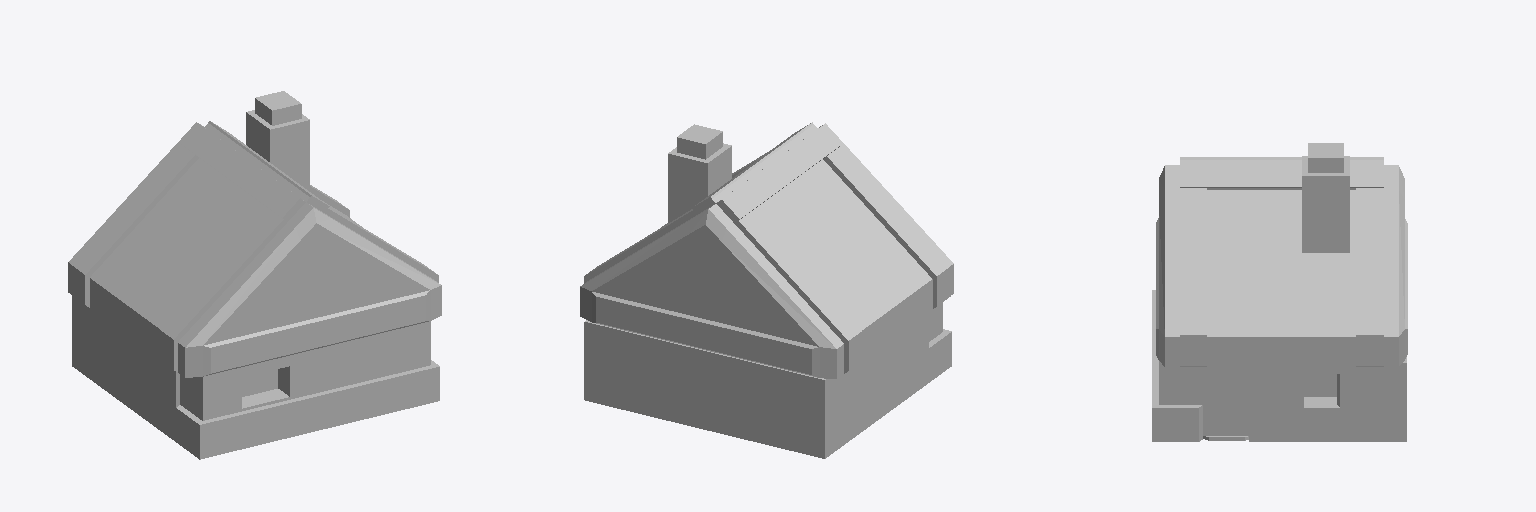
File: feudalhouse.obj
3 renders of one model, left to right at view 1: azimuth 30°, elevation 25°; view 2: azimuth 150°, elevation 25°; view 3: azimuth 270°, elevation 25°, orthographic.
Parts seen in each view (by area): view 1: housebase:Mesh; view 2: housebase:Mesh; view 3: housebase:Mesh.
Boxes of the visible parts, x1,y1,x2,y2 form: housebase:Mesh: [68, 91, 441, 459]; housebase:Mesh: [580, 122, 953, 458]; housebase:Mesh: [1152, 143, 1407, 441].
Bounding box in the file's own units: 5.29 × 4.87 × 4.43.